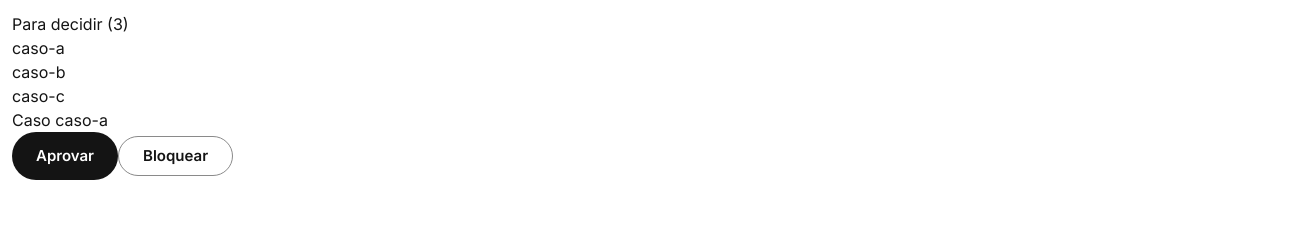
Decision failure, unknown outcome and conflict (T106; AC 34, 35; F5, F6) › a definitive failure: fila.decide.error in an alert above the actions, focus back on the case's heading; no re-read
Click the button "Aprovar" at [65, 156], box left=12, top=132, right=118, bottom=180
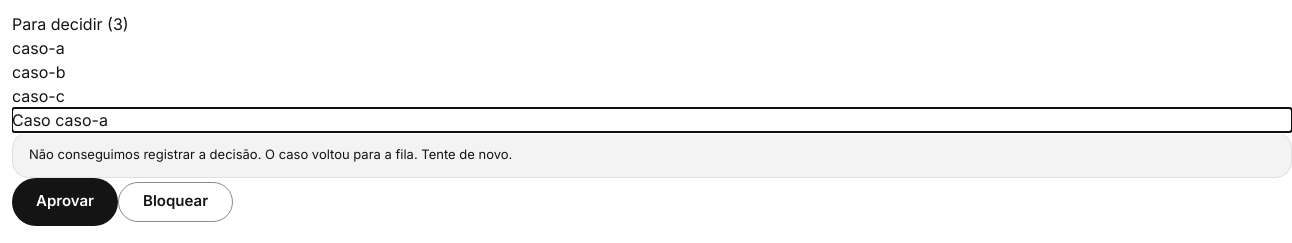
Expected: the message reads "Não conseguimos registrar a decisão. O caso voltou para a fila. Tente de novo.", left=29, top=146, right=512, bottom=162
